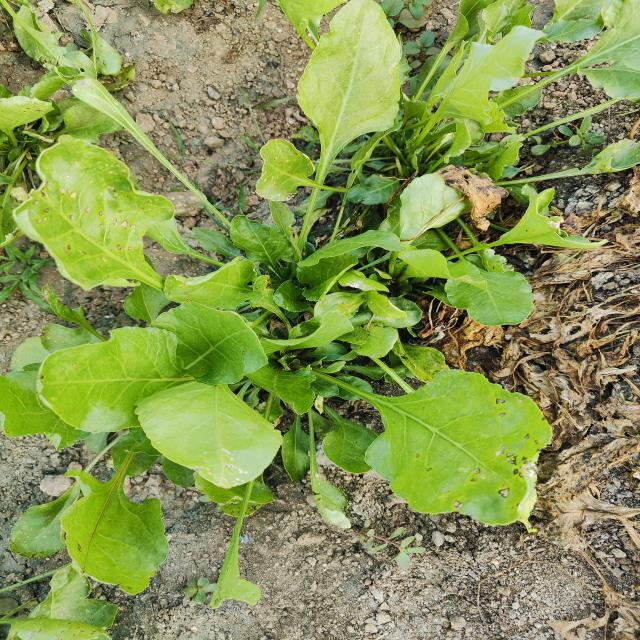half-leaf: (184, 503, 292, 620)
leaves: (344, 357, 576, 540), (4, 132, 202, 315), (293, 1, 410, 206), (40, 445, 174, 603), (129, 378, 290, 496), (32, 325, 190, 435), (412, 31, 547, 140), (143, 299, 272, 395), (420, 247, 549, 341), (7, 455, 98, 584), (480, 182, 602, 264), (283, 221, 405, 297), (231, 144, 356, 205), (218, 206, 289, 280)
